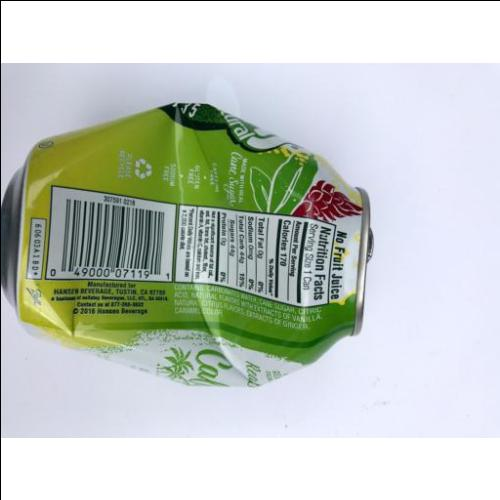metal: (4, 102, 371, 390)
